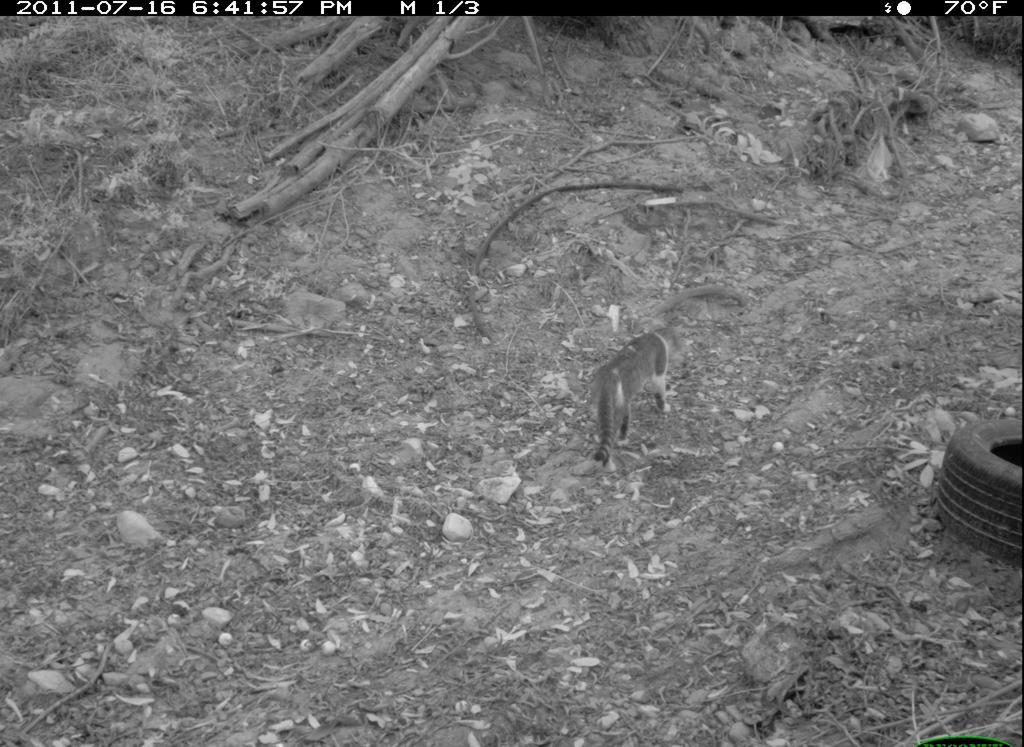cat: (570, 305, 706, 491)
